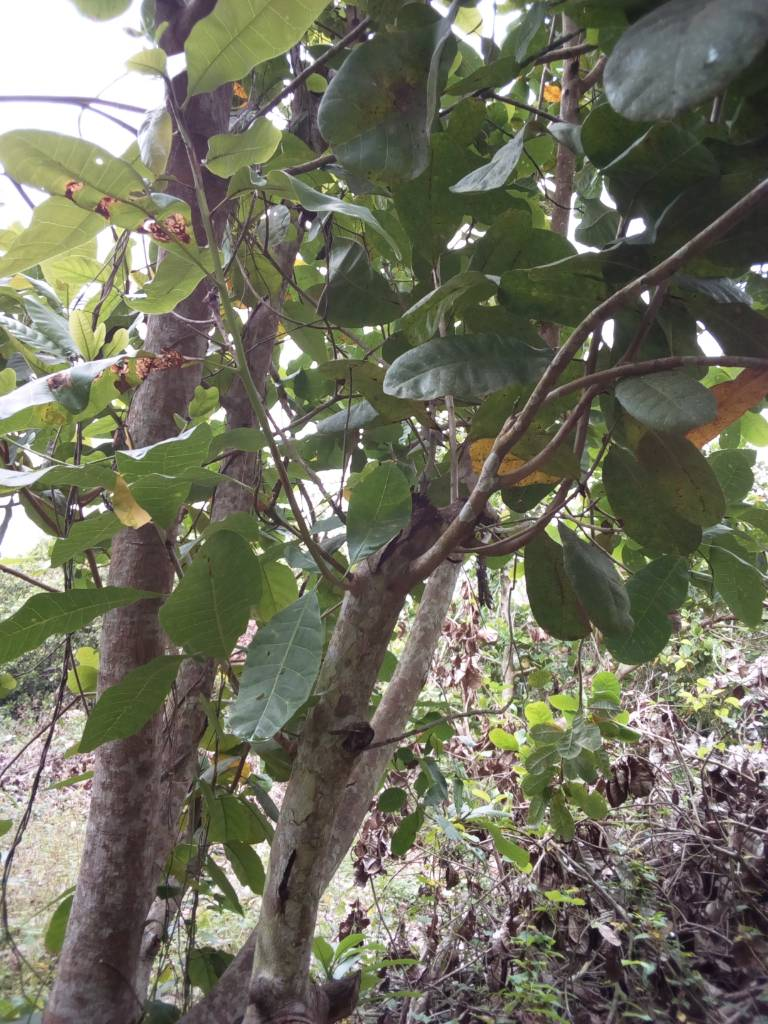Bactériose: (7, 138, 197, 244), (1, 350, 210, 427)
